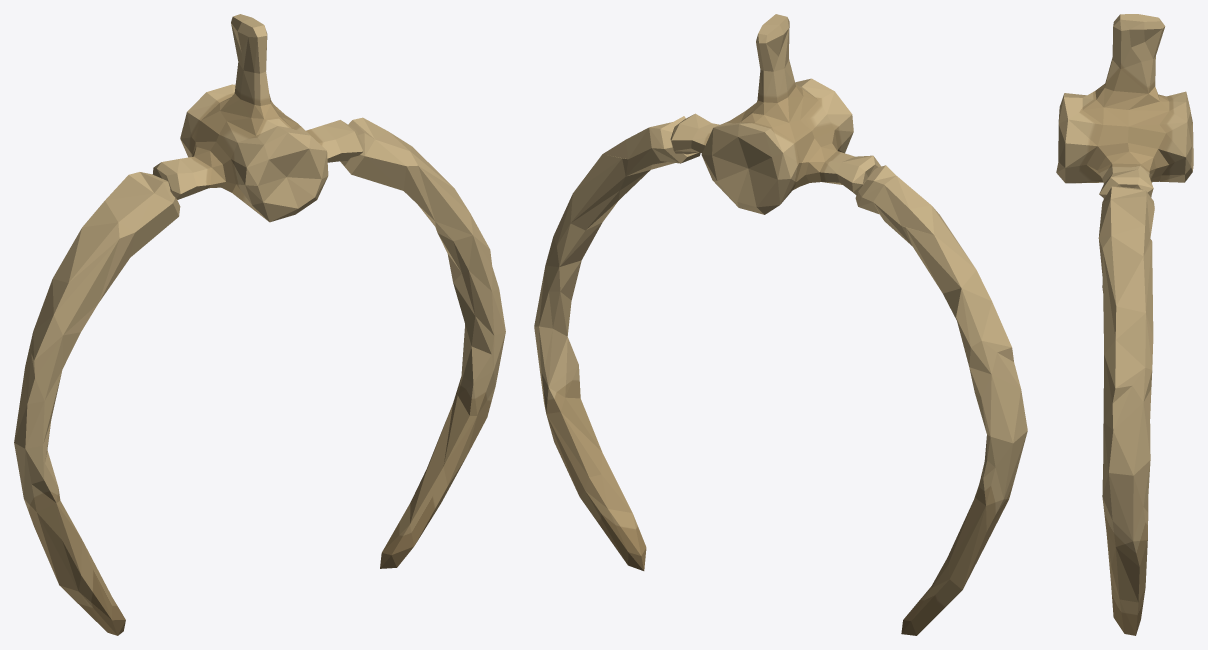
Rendered from SM_Prop_Whale_Skeleton_Ribcage_02.glb.
The picture shows the model from 3 angles, left to right: view 1: azimuth 30°, elevation 25°; view 2: azimuth 150°, elevation 25°; view 3: azimuth 270°, elevation 25°; orthographic projection. The views are drawn at different scales.
Visible parts, largest first — view 1: SM_Prop_Whale_Skeleton_Ribcage_02; view 2: SM_Prop_Whale_Skeleton_Ribcage_02; view 3: SM_Prop_Whale_Skeleton_Ribcage_02.
Boxes of the visible parts, x1,y1,x2,y2 form: SM_Prop_Whale_Skeleton_Ribcage_02: (14, 14, 505, 635); SM_Prop_Whale_Skeleton_Ribcage_02: (534, 14, 1027, 635); SM_Prop_Whale_Skeleton_Ribcage_02: (1056, 14, 1193, 635).
Size of the model in its own units: 5.35 by 6.17 by 1.39.
1 material, 1 textured.
